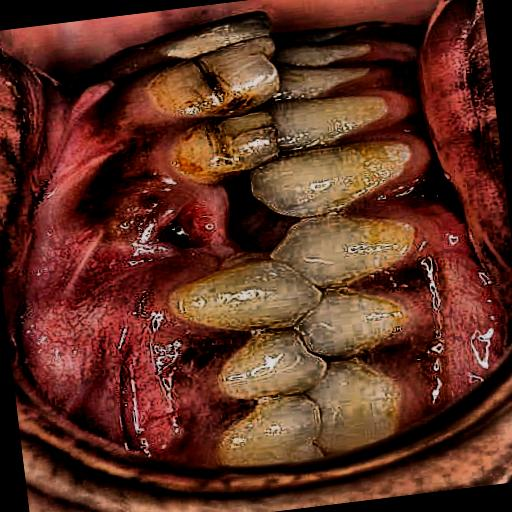Calculus: (304, 32, 462, 450), (162, 246, 334, 504), (122, 10, 320, 211)
